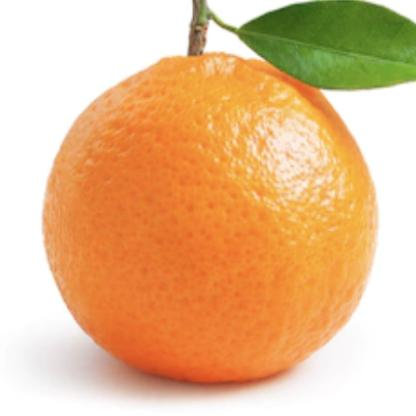fresh: (39, 42, 379, 378)
